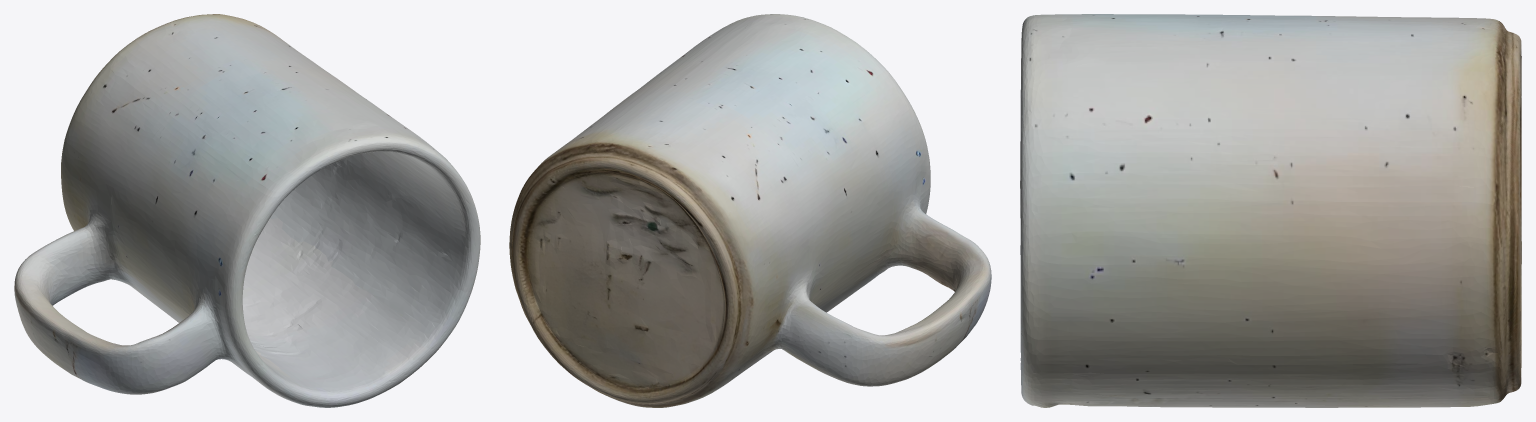
Rendered from white_mug_rokvfg.glb.
The picture shows the model from 3 angles, left to right: view 1: azimuth 30°, elevation 25°; view 2: azimuth 150°, elevation 25°; view 3: azimuth 270°, elevation 25°; orthographic projection. The views are drawn at different scales.
Visible parts, largest first — view 1: world; view 2: world; view 3: world.
Part boxes in pixels (x1,y1,x2,y2): world: (14, 14, 480, 407); world: (509, 14, 991, 407); world: (1020, 14, 1521, 407).
Size of the model in its own units: 0.0956 by 0.0684 by 0.0867.
1 material, 1 textured.
